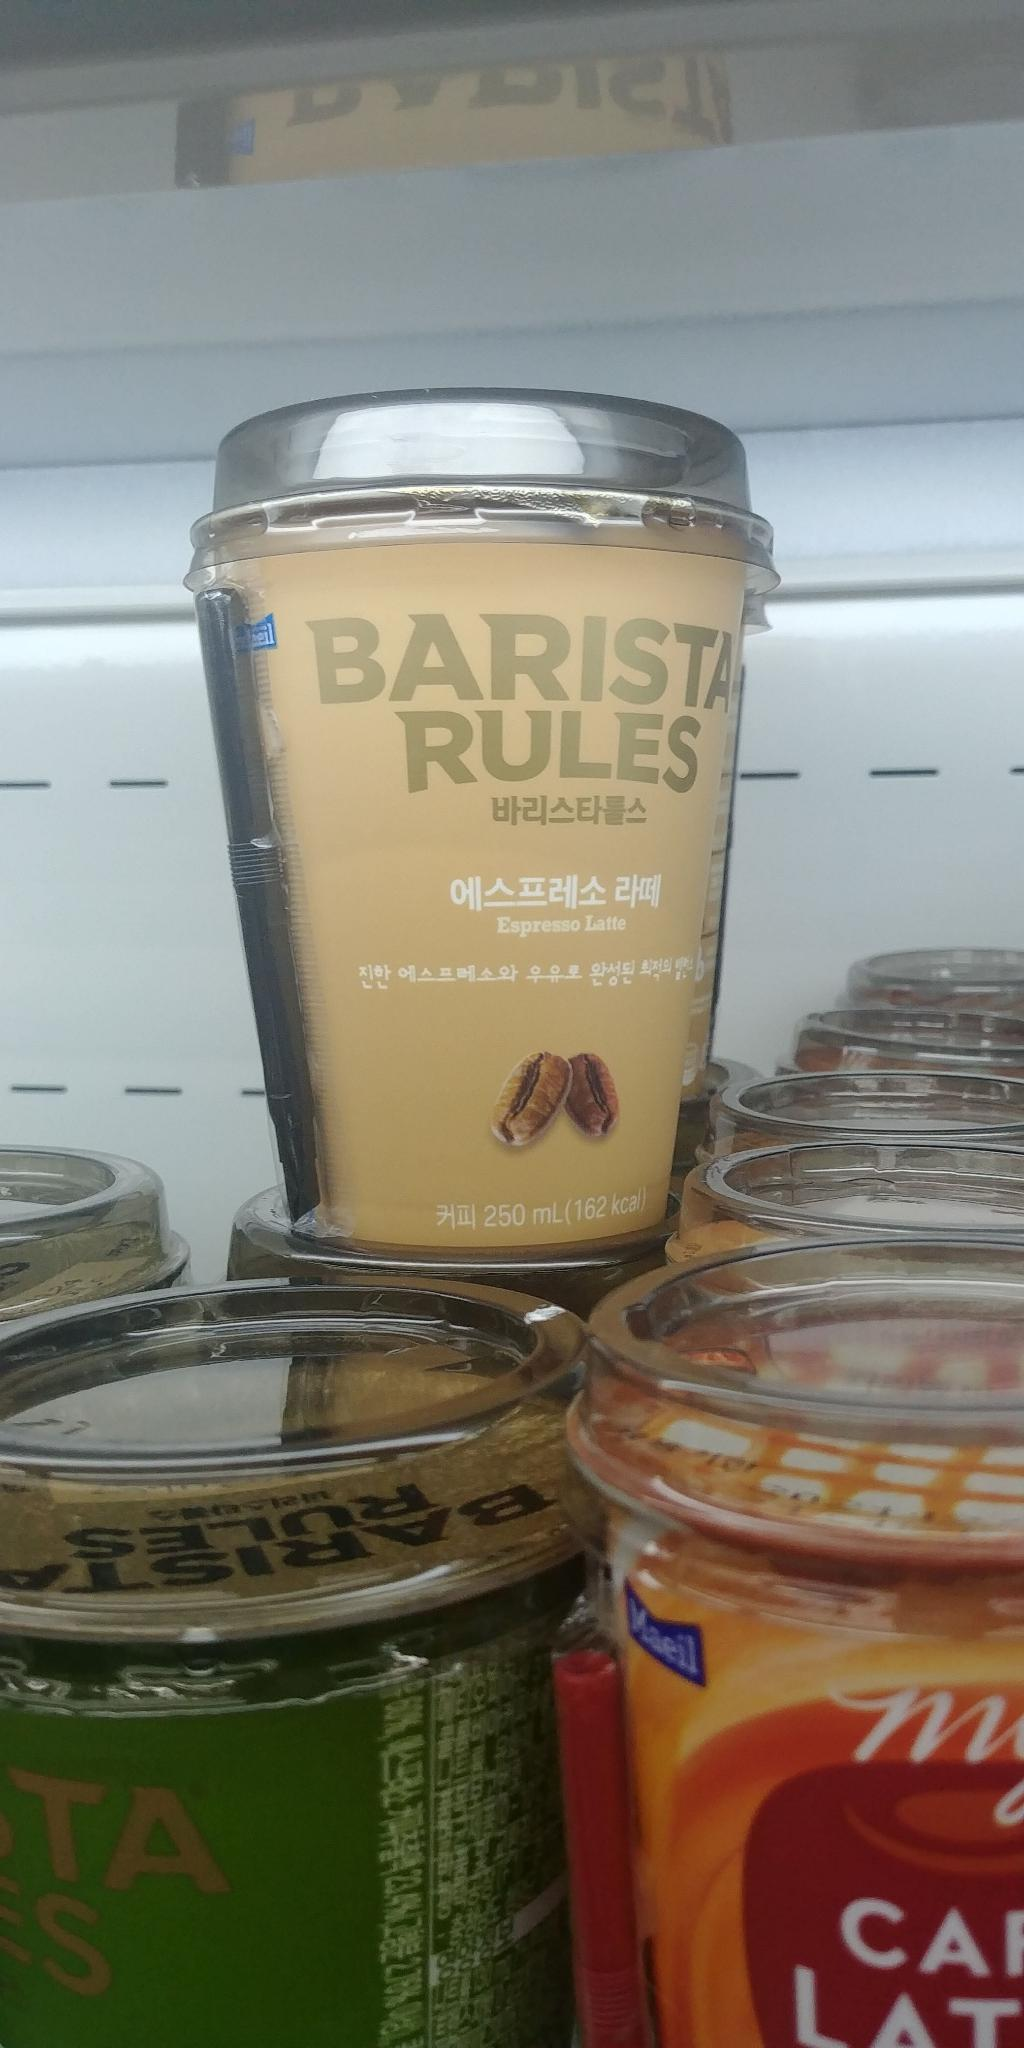baristarules_espressolatte: (185, 370, 789, 1287)
